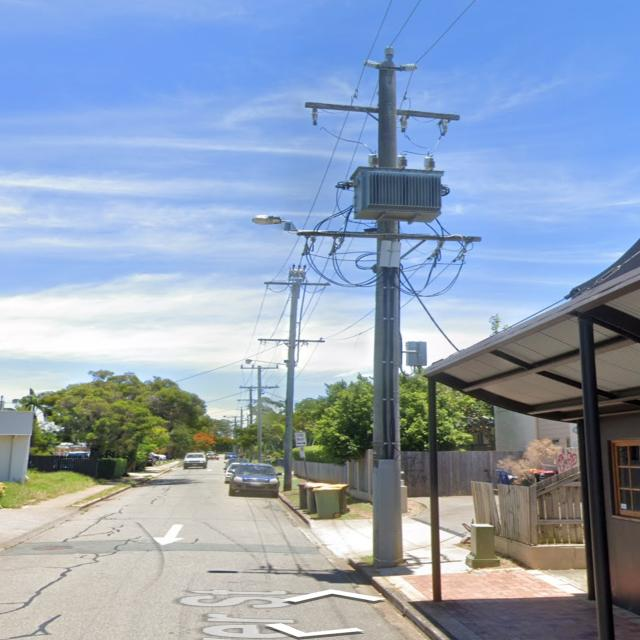HV-switch: (290, 264, 308, 279)
HV-transmission: (304, 45, 461, 141), (240, 364, 279, 369), (235, 406, 247, 411), (246, 385, 255, 391)
LV link: (452, 240, 472, 262), (329, 236, 348, 256), (301, 234, 317, 256), (430, 241, 446, 259)
concrete-pole: (369, 60, 403, 568)
crossarm: (306, 101, 460, 122), (298, 228, 481, 243), (258, 338, 325, 344), (263, 281, 331, 286), (239, 386, 280, 388), (240, 367, 279, 369), (236, 399, 258, 401), (235, 410, 247, 410)
streetlight: (251, 214, 299, 235), (245, 359, 287, 365)
timber-pole: (282, 283, 302, 492), (256, 365, 262, 463), (249, 386, 253, 426), (240, 410, 242, 428)
transformer: (351, 153, 443, 225)
